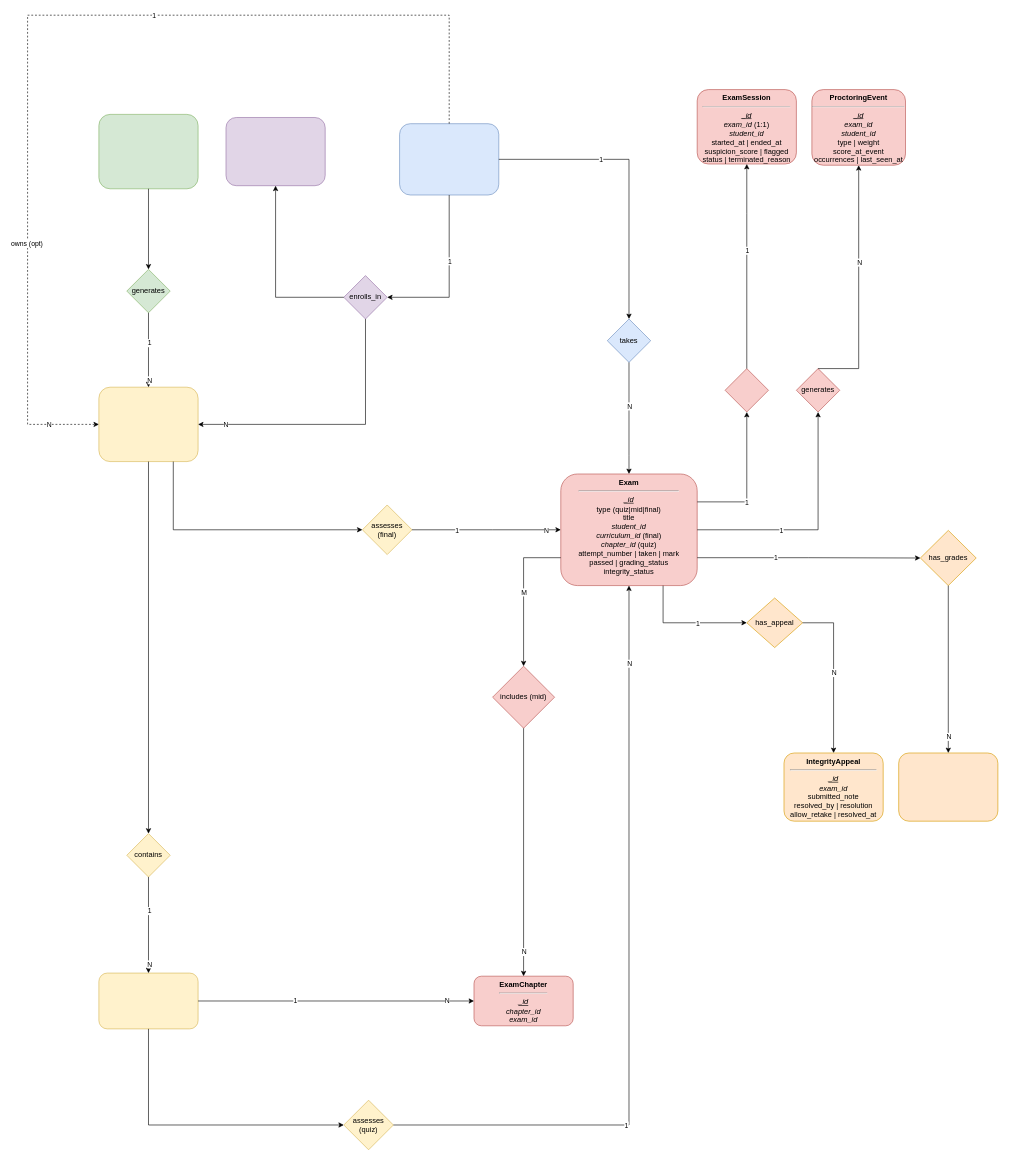
Some shapes in this 1009 by 1161 pixel diagram are drawn without their labels. The shapes that lost their labels are listed below. From the top down, each one's centre as x and y in pixels, then its label:
At pixel 148 151: "Book _id title original_filename storage_path status requested_by_student_id".
At pixel 275 151: "Enrollment _id student_id curriculum_id enrolled_at status".
At pixel 449 159: "Student _id name createdAt updatedAt".
At pixel 746 390: "has_session".
At pixel 148 424: "Curriculum _id title description book_id owner_student_id".
At pixel 948 786: "GradeHistory _id exam_id mark | graded_by graded_at | is_regrade reason".
At pixel 148 1000: "Chapter _id curriculum_id title number".
